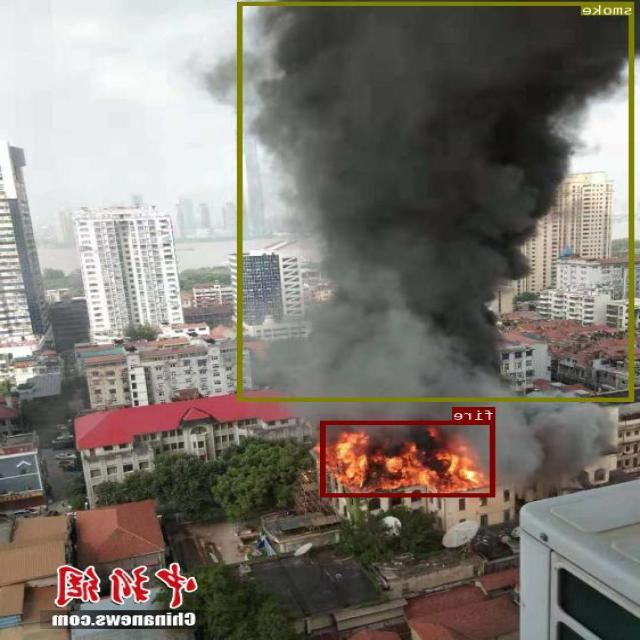fire: (321, 420, 496, 497)
smoke: (239, 2, 635, 400)
